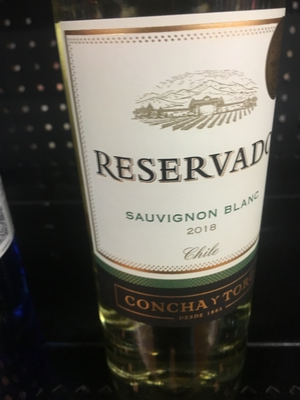reservado sauvignon blanc: (55, 7, 277, 380)
